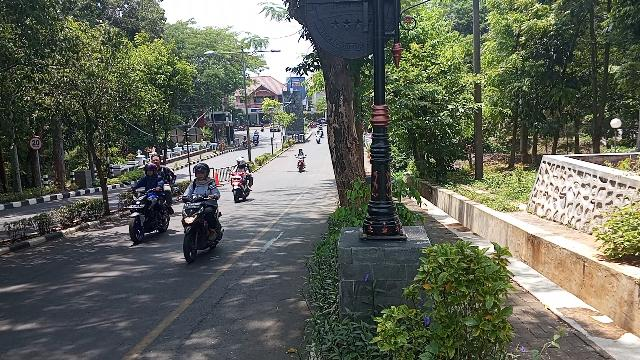helm: (195, 164, 212, 180), (146, 165, 159, 178), (237, 159, 245, 166)
motor: (177, 195, 226, 263), (125, 191, 171, 246), (231, 173, 253, 203)
non-helm: (153, 155, 162, 167)
